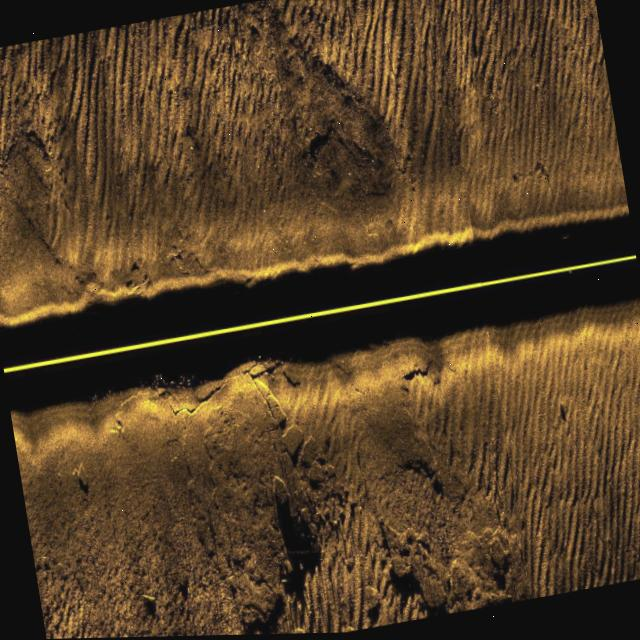mine: (140, 589, 162, 622), (555, 400, 569, 429)
